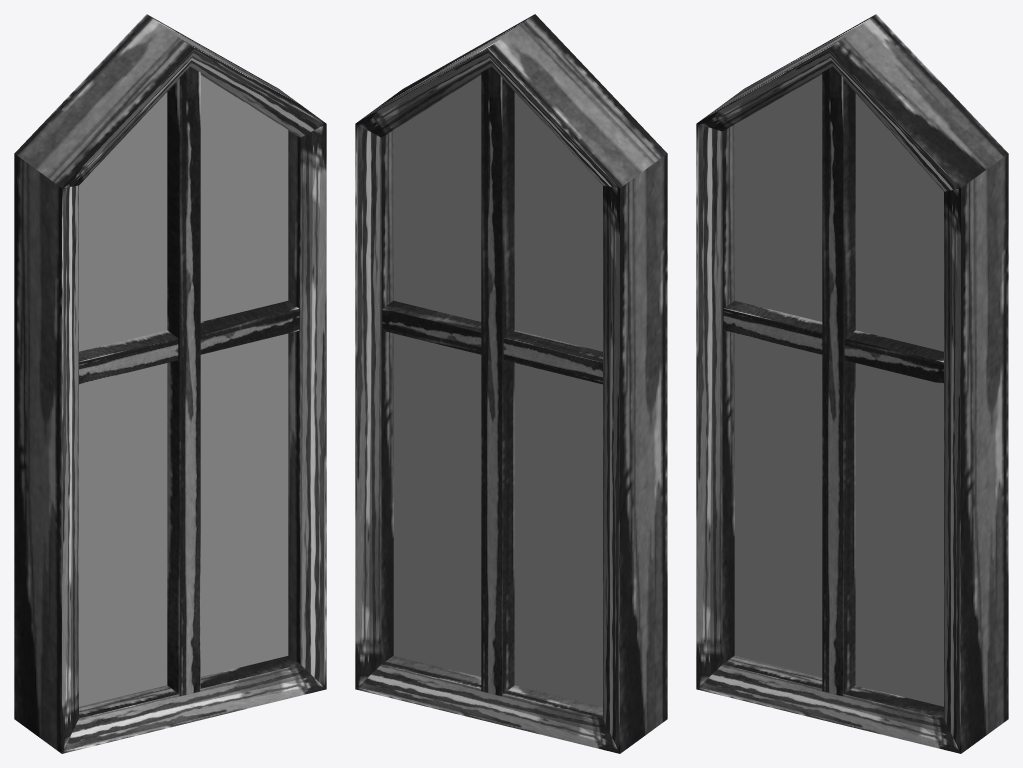
Rendered from WindowFrameTop.fbx.
3 views of the same model, side by side, from view 1: azimuth 30°, elevation 25°; view 2: azimuth 150°, elevation 25°; view 3: azimuth 330°, elevation 25° (orthographic).
Visible parts, largest first — view 1: WindowFrameTop, WindowGlassTop; view 2: WindowFrameTop, WindowGlassTop; view 3: WindowFrameTop, WindowGlassTop.
Part boxes in pixels (<box>): WindowFrameTop: <box>14,14,326,753</box>; WindowGlassTop: <box>79,75,288,706</box>; WindowFrameTop: <box>355,14,667,753</box>; WindowGlassTop: <box>393,75,602,706</box>; WindowFrameTop: <box>696,14,1008,753</box>; WindowGlassTop: <box>734,74,943,706</box>.
Size of the model in its own units: 2 by 4.86 by 0.6208.
